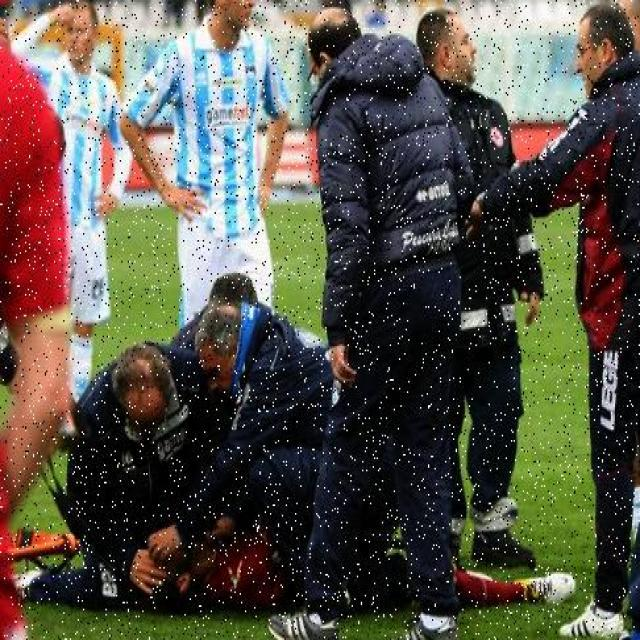fall: (138, 532, 573, 602)
